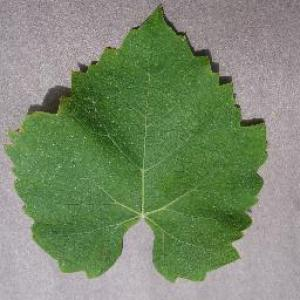Folha: (2, 2, 268, 282)
